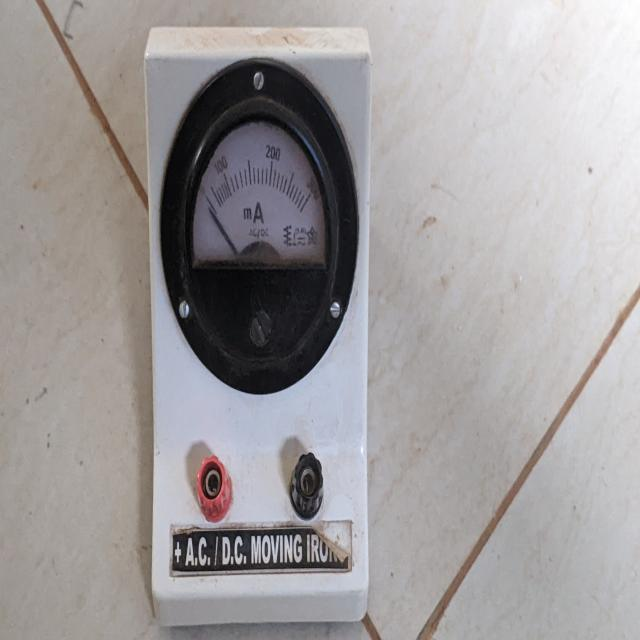Ammeter Analog: (132, 19, 387, 630)
